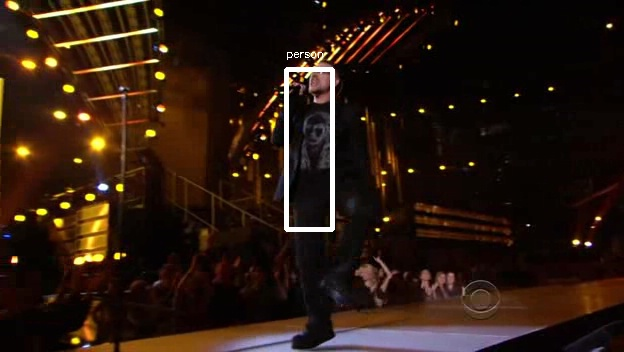person: (278, 62, 370, 237), (275, 62, 367, 237), (281, 62, 373, 237), (278, 59, 370, 234), (278, 65, 370, 240)
target_negative: (69, 156, 508, 268), (90, 250, 351, 336), (254, 121, 520, 198), (51, 321, 144, 348)
